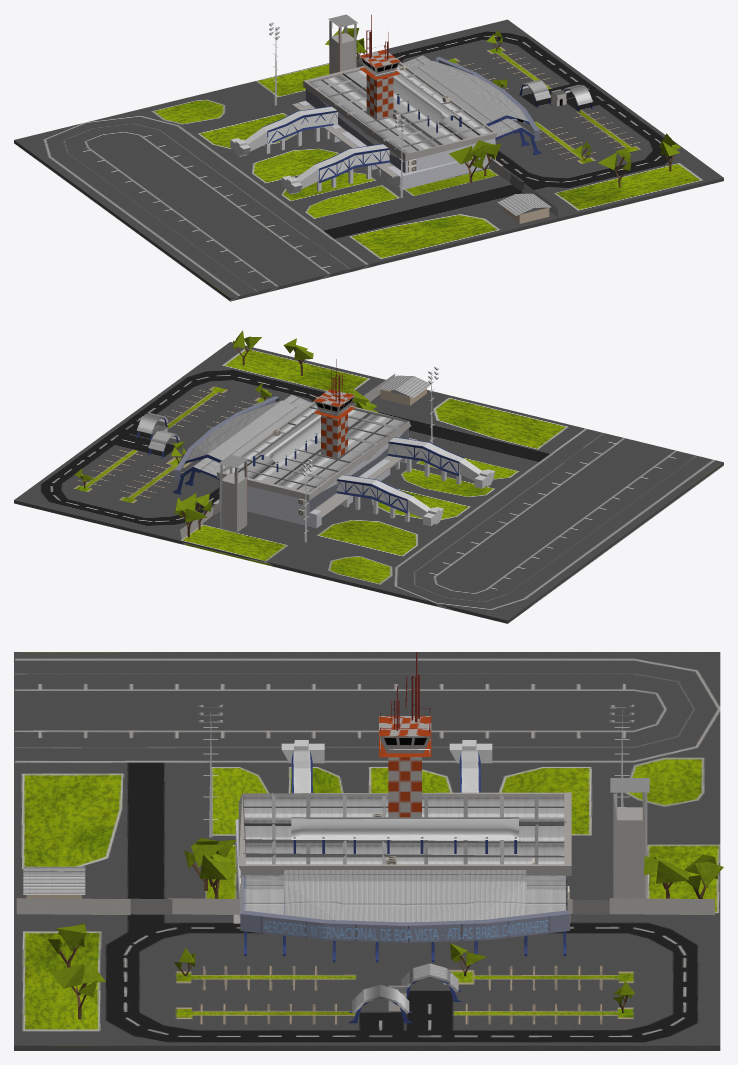
File: aeroportoLOD1.fbx
3 renders of one model, top to bottom at view 1: azimuth 30°, elevation 25°; view 2: azimuth 150°, elevation 25°; view 3: azimuth 270°, elevation 25°, orthographic. The views are drawn at different scales.
Visible parts, largest first — view 1: aeroporto LOD 1; view 2: aeroporto LOD 1; view 3: aeroporto LOD 1.
Boxes of the visible parts, box(x1,y1,x2,y2) form: aeroporto LOD 1: box(14, 14, 723, 301); aeroporto LOD 1: box(14, 330, 723, 623); aeroporto LOD 1: box(14, 652, 723, 1050).
Bounding box in the file's own units: 2062 × 543 × 1573.
